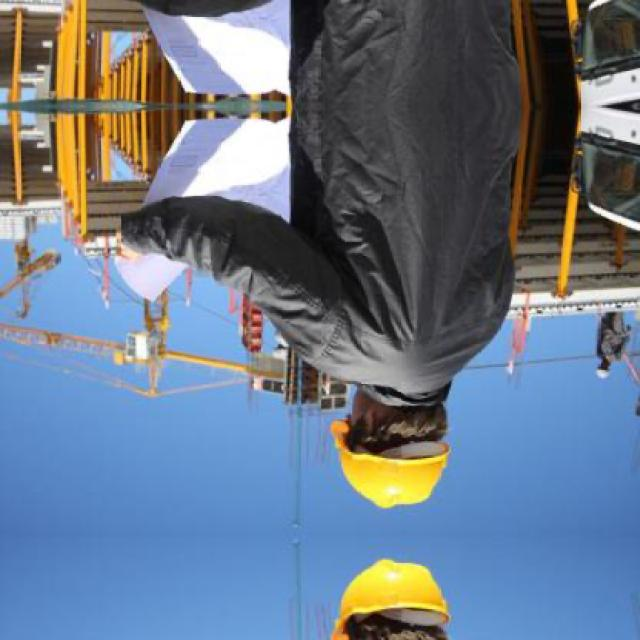con casco: (277, 394, 494, 510)
